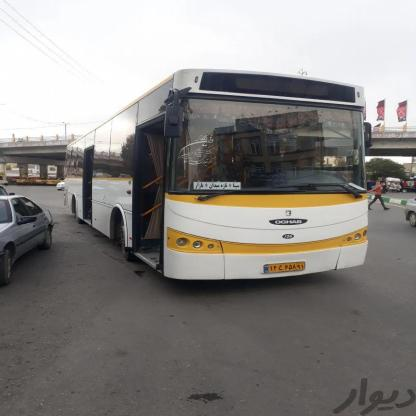Bus: (60, 69, 374, 296)
Car: (0, 185, 53, 294)
